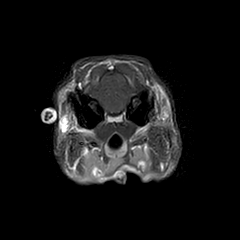Brain: (64, 37, 163, 135)
